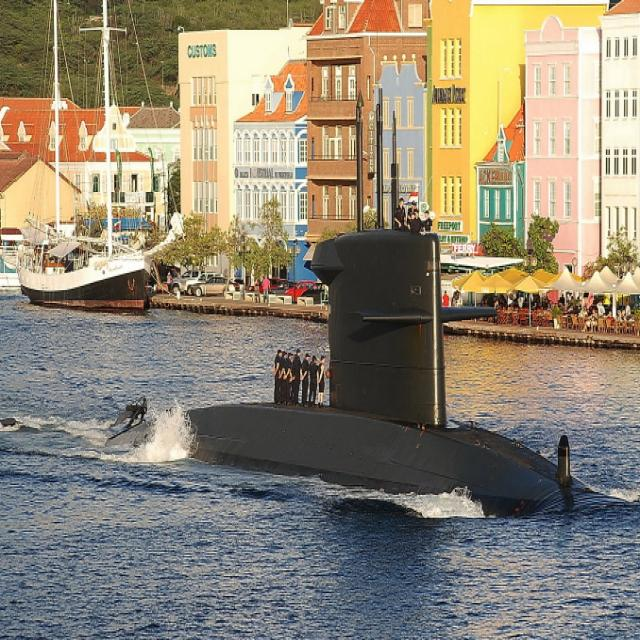submarine: (99, 68, 629, 516)
